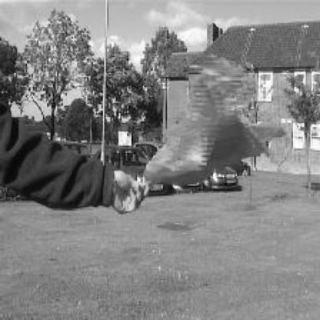other: (134, 58, 302, 200)
